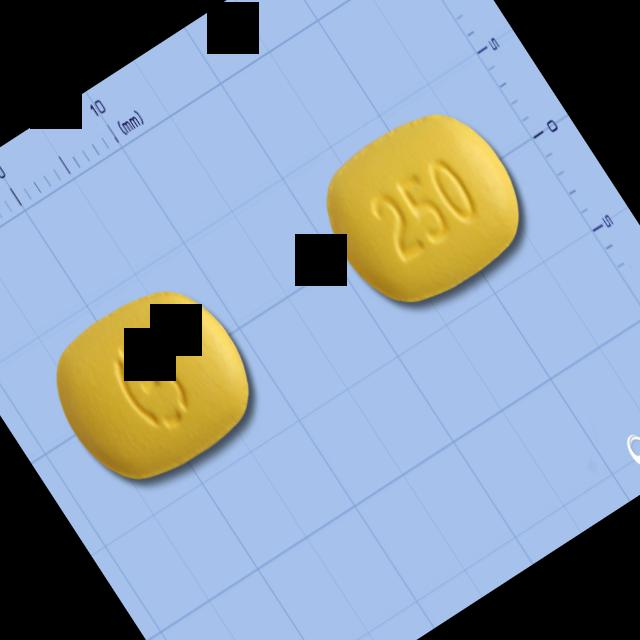Clarione -500mg: (25, 256, 284, 512), (295, 81, 552, 335)
